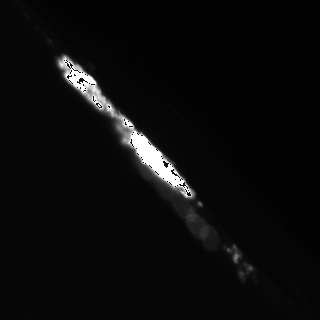embryo: (150, 172, 180, 200), (185, 213, 209, 240), (171, 193, 195, 219), (134, 154, 155, 180), (199, 224, 219, 251)
